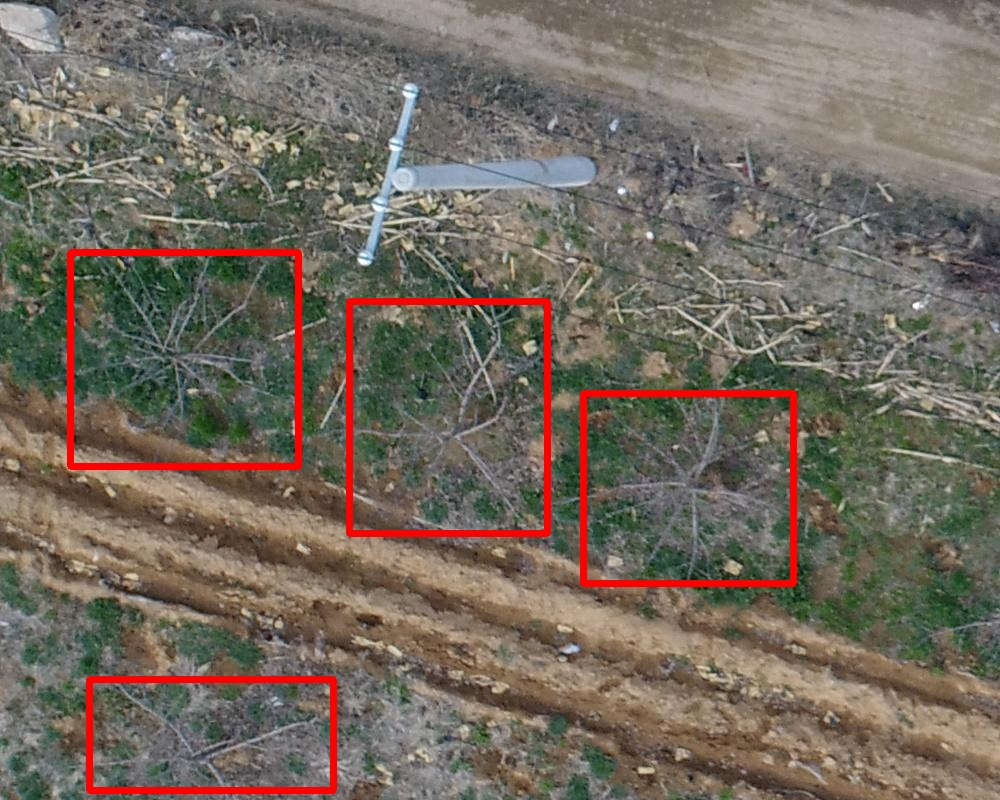apple: (70, 252, 298, 466), (349, 301, 547, 533), (583, 393, 793, 583), (89, 679, 333, 790)
